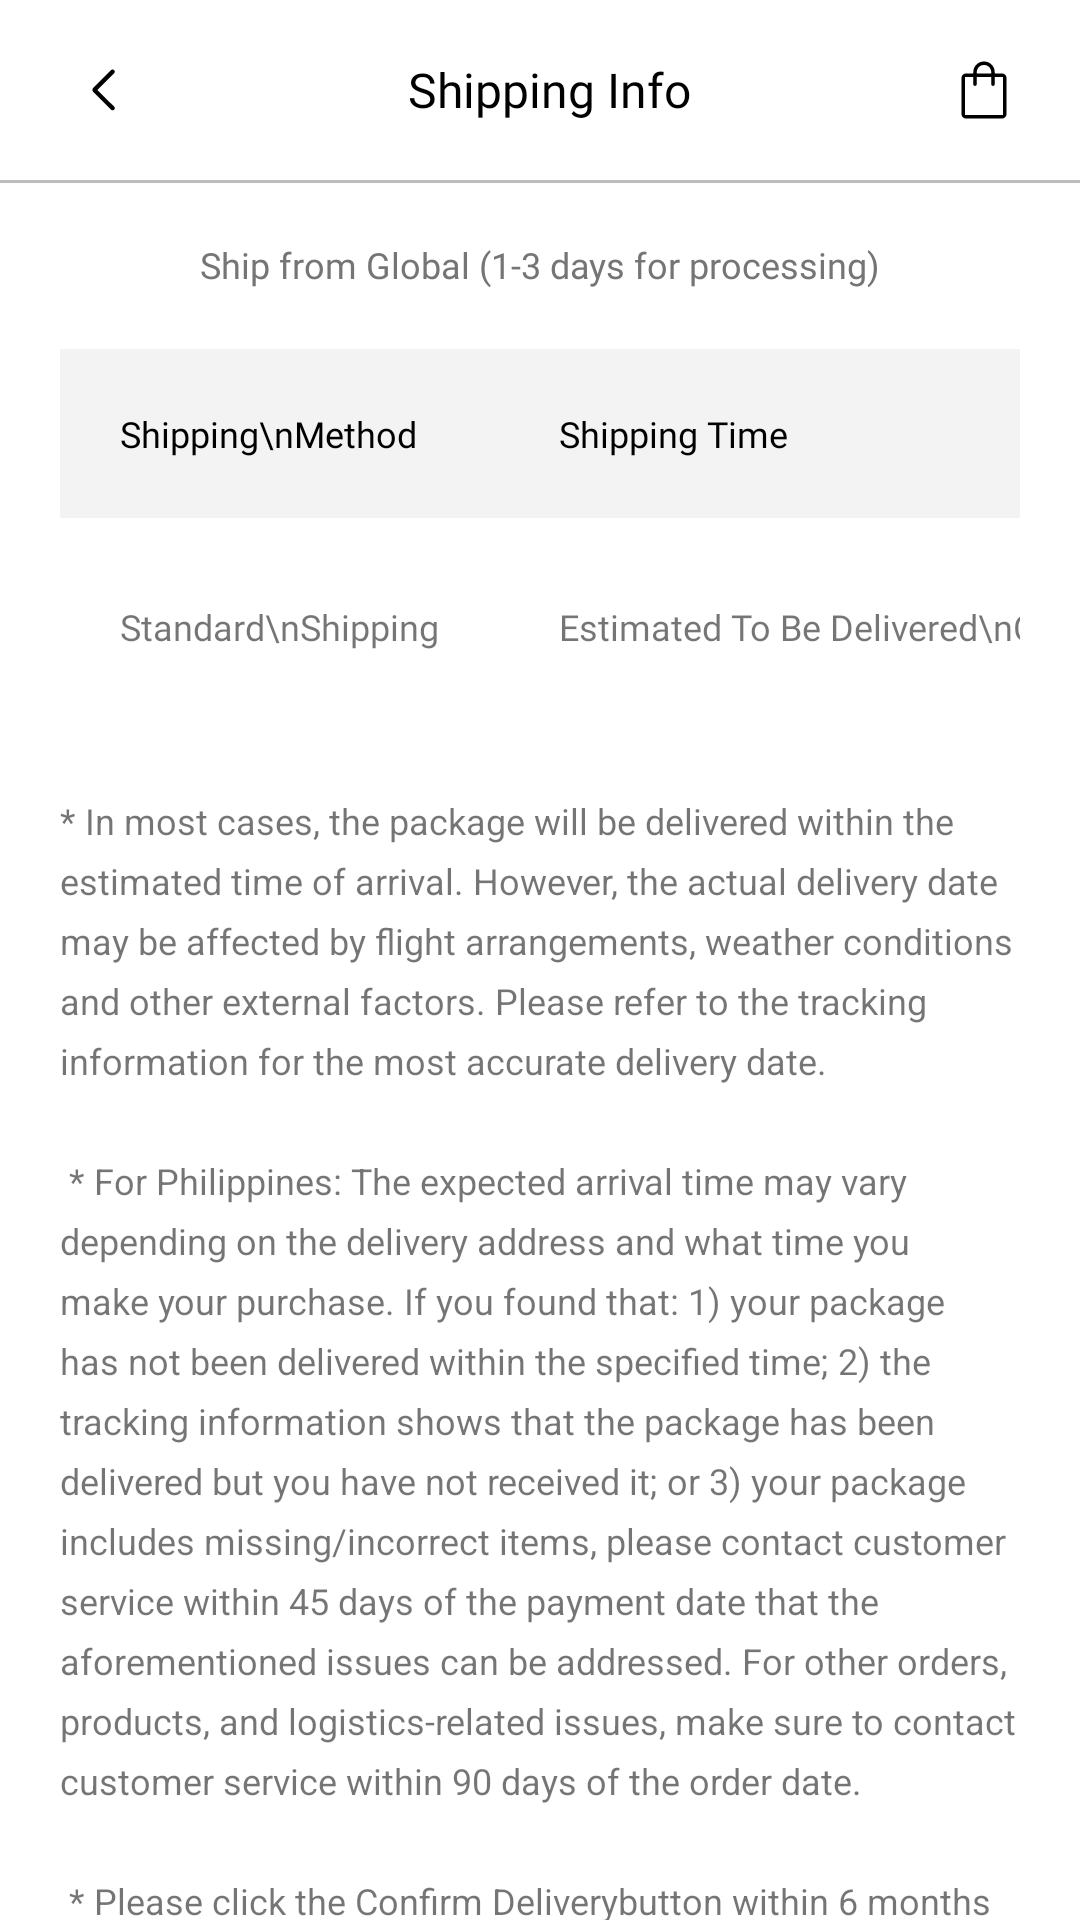

Where icons sit on this 1080 x 1920 app screen, as (x1, y1, x2, y2):
chevron left: (92, 69, 115, 111)
shopping: (961, 61, 1007, 119)
